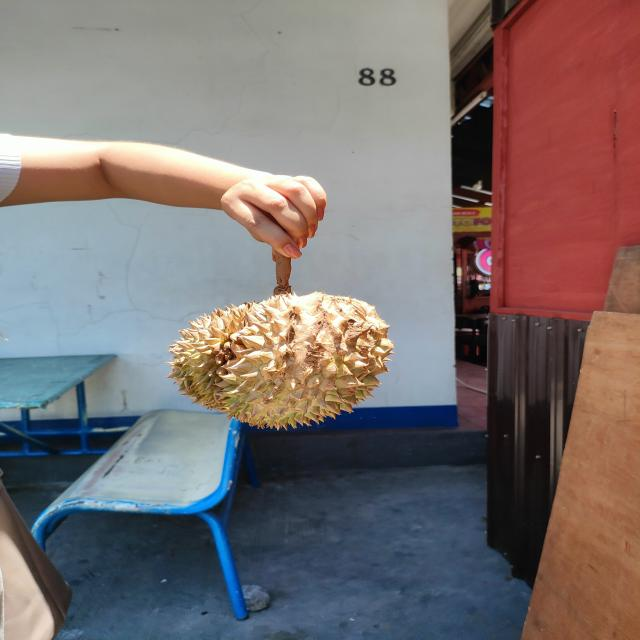mature: (163, 290, 394, 432)
